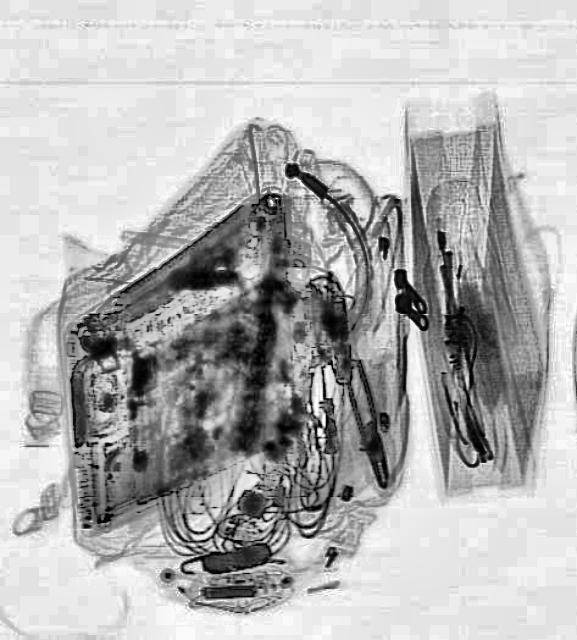Pliers: (336, 357, 398, 489)
